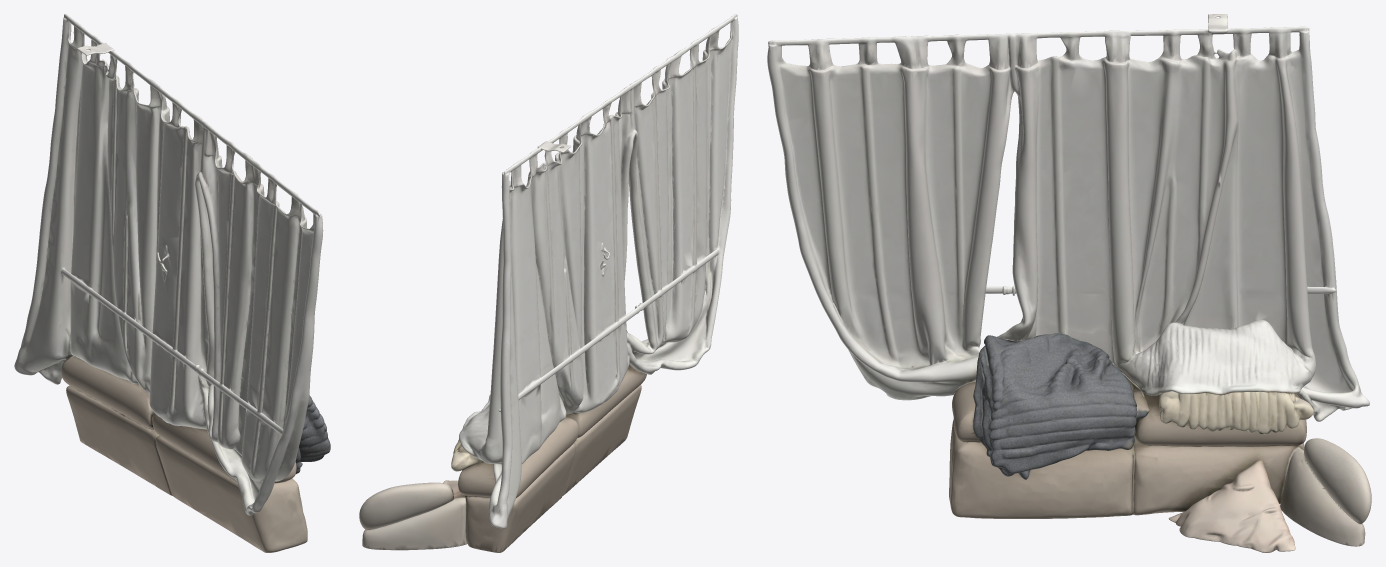
File: curtain.glb
3 renders of one model, left to right at view 1: azimuth 30°, elevation 25°; view 2: azimuth 150°, elevation 25°; view 3: azimuth 270°, elevation 25°, orthographic. The views are drawn at different scales.
Visible parts, largest first — view 1: tripo_node_c0149931-f0cf-43c8-af59-515866b517aa; view 2: tripo_node_c0149931-f0cf-43c8-af59-515866b517aa; view 3: tripo_node_c0149931-f0cf-43c8-af59-515866b517aa.
Boxes of the visible parts, bbox=[...] form: tripo_node_c0149931-f0cf-43c8-af59-515866b517aa: bbox=[14, 14, 330, 552]; tripo_node_c0149931-f0cf-43c8-af59-515866b517aa: bbox=[359, 14, 738, 552]; tripo_node_c0149931-f0cf-43c8-af59-515866b517aa: bbox=[767, 14, 1371, 552].
Bounding box in the file's own units: 0.3476 × 0.824 × 1.
1 material, 1 textured.
